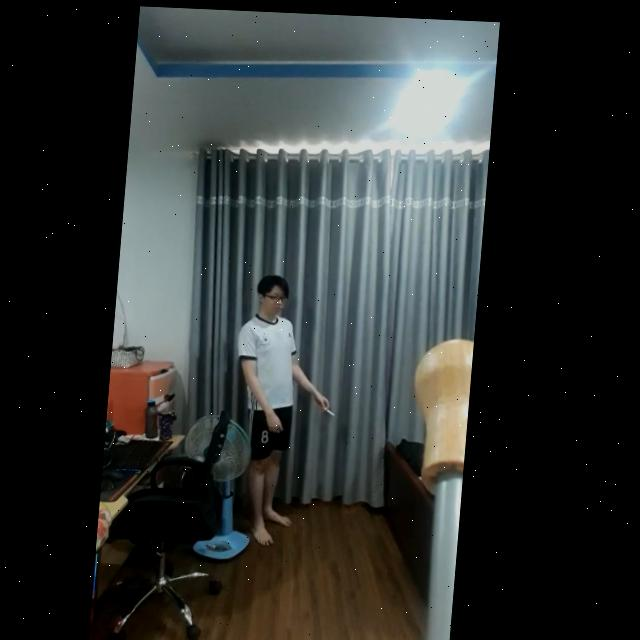cigarette: (333, 405, 344, 415)
